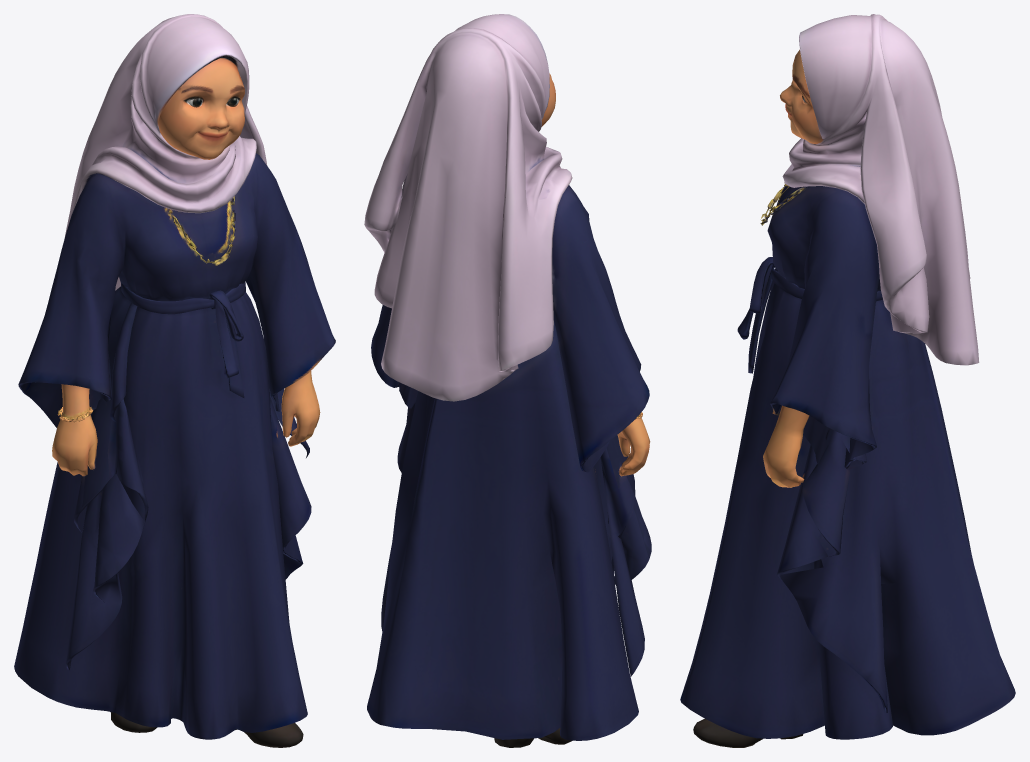
The model's file is MokYah_source.glb.
3 renders of one model, left to right at view 1: azimuth 30°, elevation 25°; view 2: azimuth 150°, elevation 25°; view 3: azimuth 270°, elevation 25°, orthographic. The views are drawn at different scales.
Visible parts, largest first — view 1: ed578679_831a_4380_a188_3346a42f44ff; view 2: ed578679_831a_4380_a188_3346a42f44ff; view 3: ed578679_831a_4380_a188_3346a42f44ff.
Boxes of the visible parts, x1,y1,x2,y2 form: ed578679_831a_4380_a188_3346a42f44ff: (14, 14, 335, 747); ed578679_831a_4380_a188_3346a42f44ff: (364, 14, 651, 747); ed578679_831a_4380_a188_3346a42f44ff: (680, 14, 1015, 747).
Bounding box in the file's own units: 0.4302 × 0.9995 × 0.4263.
Materials: 1 (1 with a texture image).
